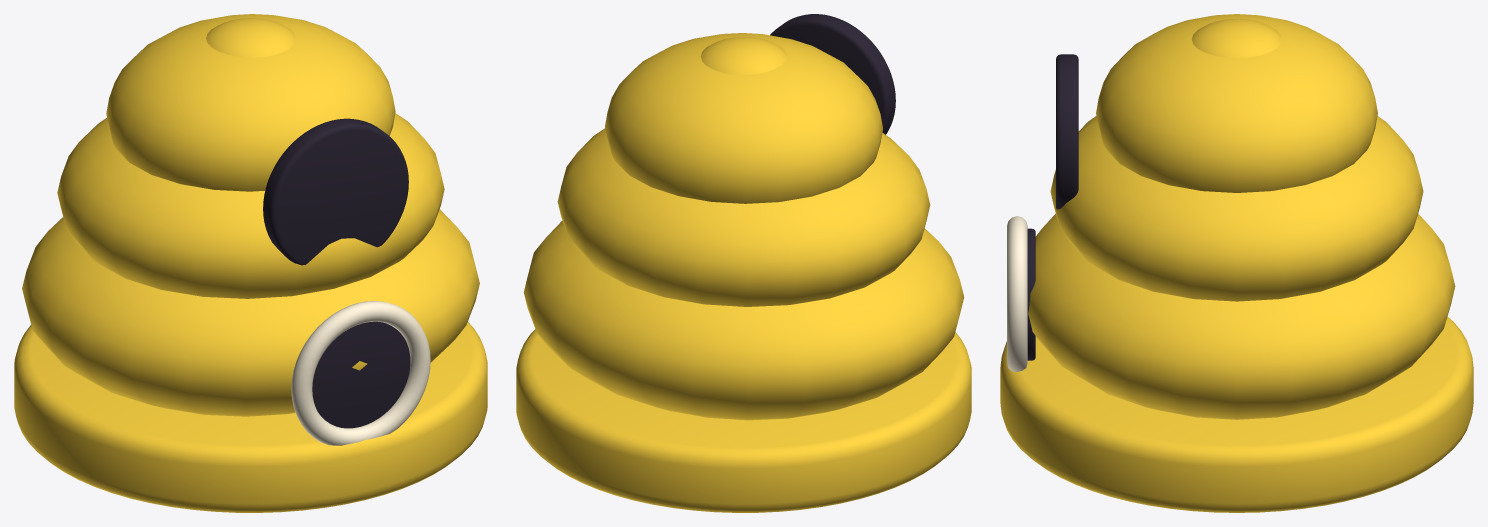
The model's file is HiveYellow.fbx.
3 views of the same model, side by side, from view 1: azimuth 30°, elevation 25°; view 2: azimuth 150°, elevation 25°; view 3: azimuth 270°, elevation 25° (orthographic). The views are drawn at different scales.
Visible parts, largest first — view 1: Hive_Base_yellow.001, Hive_Lower_yellow.001, Hive_Top_yellow.001, Hive_Mid_yellow.001, Count_Plaque_yellow.001, Exit_Dark_yellow.001, Exit_Rim_yellow.001, Hive_Crown_yellow.001; view 2: Hive_Lower_yellow.001, Hive_Base_yellow.001, Hive_Mid_yellow.001, Hive_Top_yellow.001, Count_Plaque_yellow.001, Hive_Crown_yellow.001; view 3: Hive_Lower_yellow.001, Hive_Base_yellow.001, Hive_Mid_yellow.001, Hive_Top_yellow.001, Count_Plaque_yellow.001, Exit_Rim_yellow.001, Hive_Crown_yellow.001, Exit_Dark_yellow.001.
Boxes of the visible parts, <box> form: Hive_Base_yellow.001: <box>14,322,487,512</box>; Hive_Lower_yellow.001: <box>22,209,479,416</box>; Hive_Top_yellow.001: <box>106,14,395,191</box>; Hive_Mid_yellow.001: <box>57,113,444,298</box>; Count_Plaque_yellow.001: <box>263,118,408,265</box>; Exit_Dark_yellow.001: <box>312,321,410,428</box>; Exit_Rim_yellow.001: <box>291,301,430,445</box>; Hive_Crown_yellow.001: <box>206,18,295,57</box>; Hive_Lower_yellow.001: <box>523,220,964,420</box>; Hive_Base_yellow.001: <box>516,329,971,512</box>; Hive_Mid_yellow.001: <box>557,128,930,306</box>; Hive_Top_yellow.001: <box>605,33,882,203</box>; Count_Plaque_yellow.001: <box>770,14,895,134</box>; Hive_Crown_yellow.001: <box>700,36,787,74</box>; Hive_Lower_yellow.001: <box>1028,213,1455,419</box>; Hive_Base_yellow.001: <box>1000,316,1473,512</box>; Hive_Mid_yellow.001: <box>1050,116,1423,301</box>; Hive_Top_yellow.001: <box>1096,14,1377,192</box>; Count_Plaque_yellow.001: <box>1056,54,1078,209</box>; Exit_Rim_yellow.001: <box>1007,216,1027,371</box>; Hive_Crown_yellow.001: <box>1192,18,1281,57</box>; Exit_Dark_yellow.001: <box>1027,228,1035,360</box>.
Size of the model in its own units: 104 by 95 by 104.
